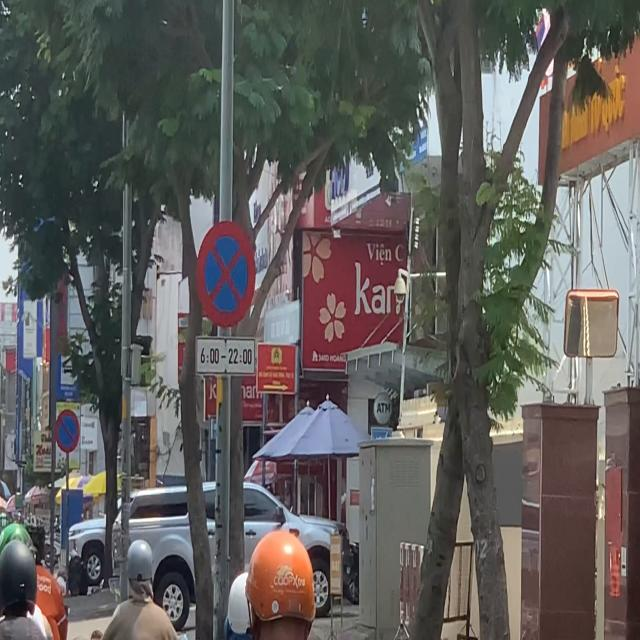Cam do: (56, 409, 80, 453)
Cam dung va do: (194, 218, 258, 333)
